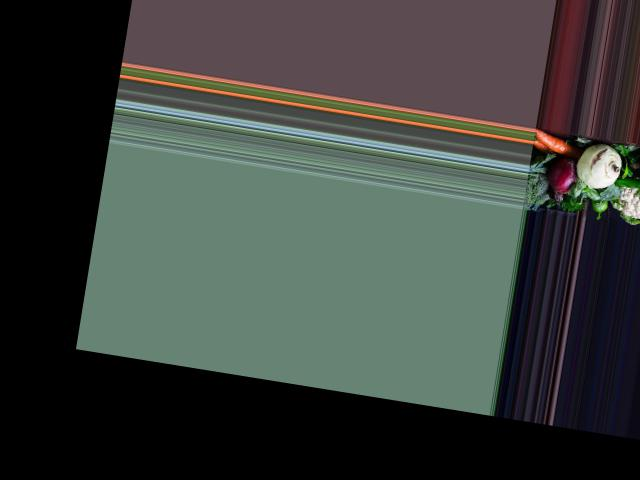carrot: (530, 126, 575, 161)
